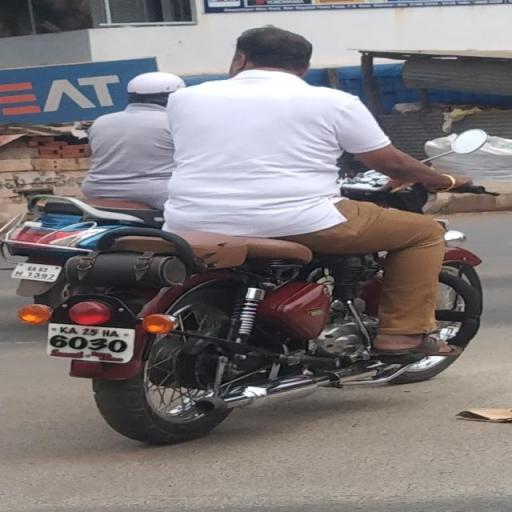bike: (43, 30, 489, 446)
numberplate: (46, 320, 134, 366)
withouthelmet: (234, 30, 312, 72)
